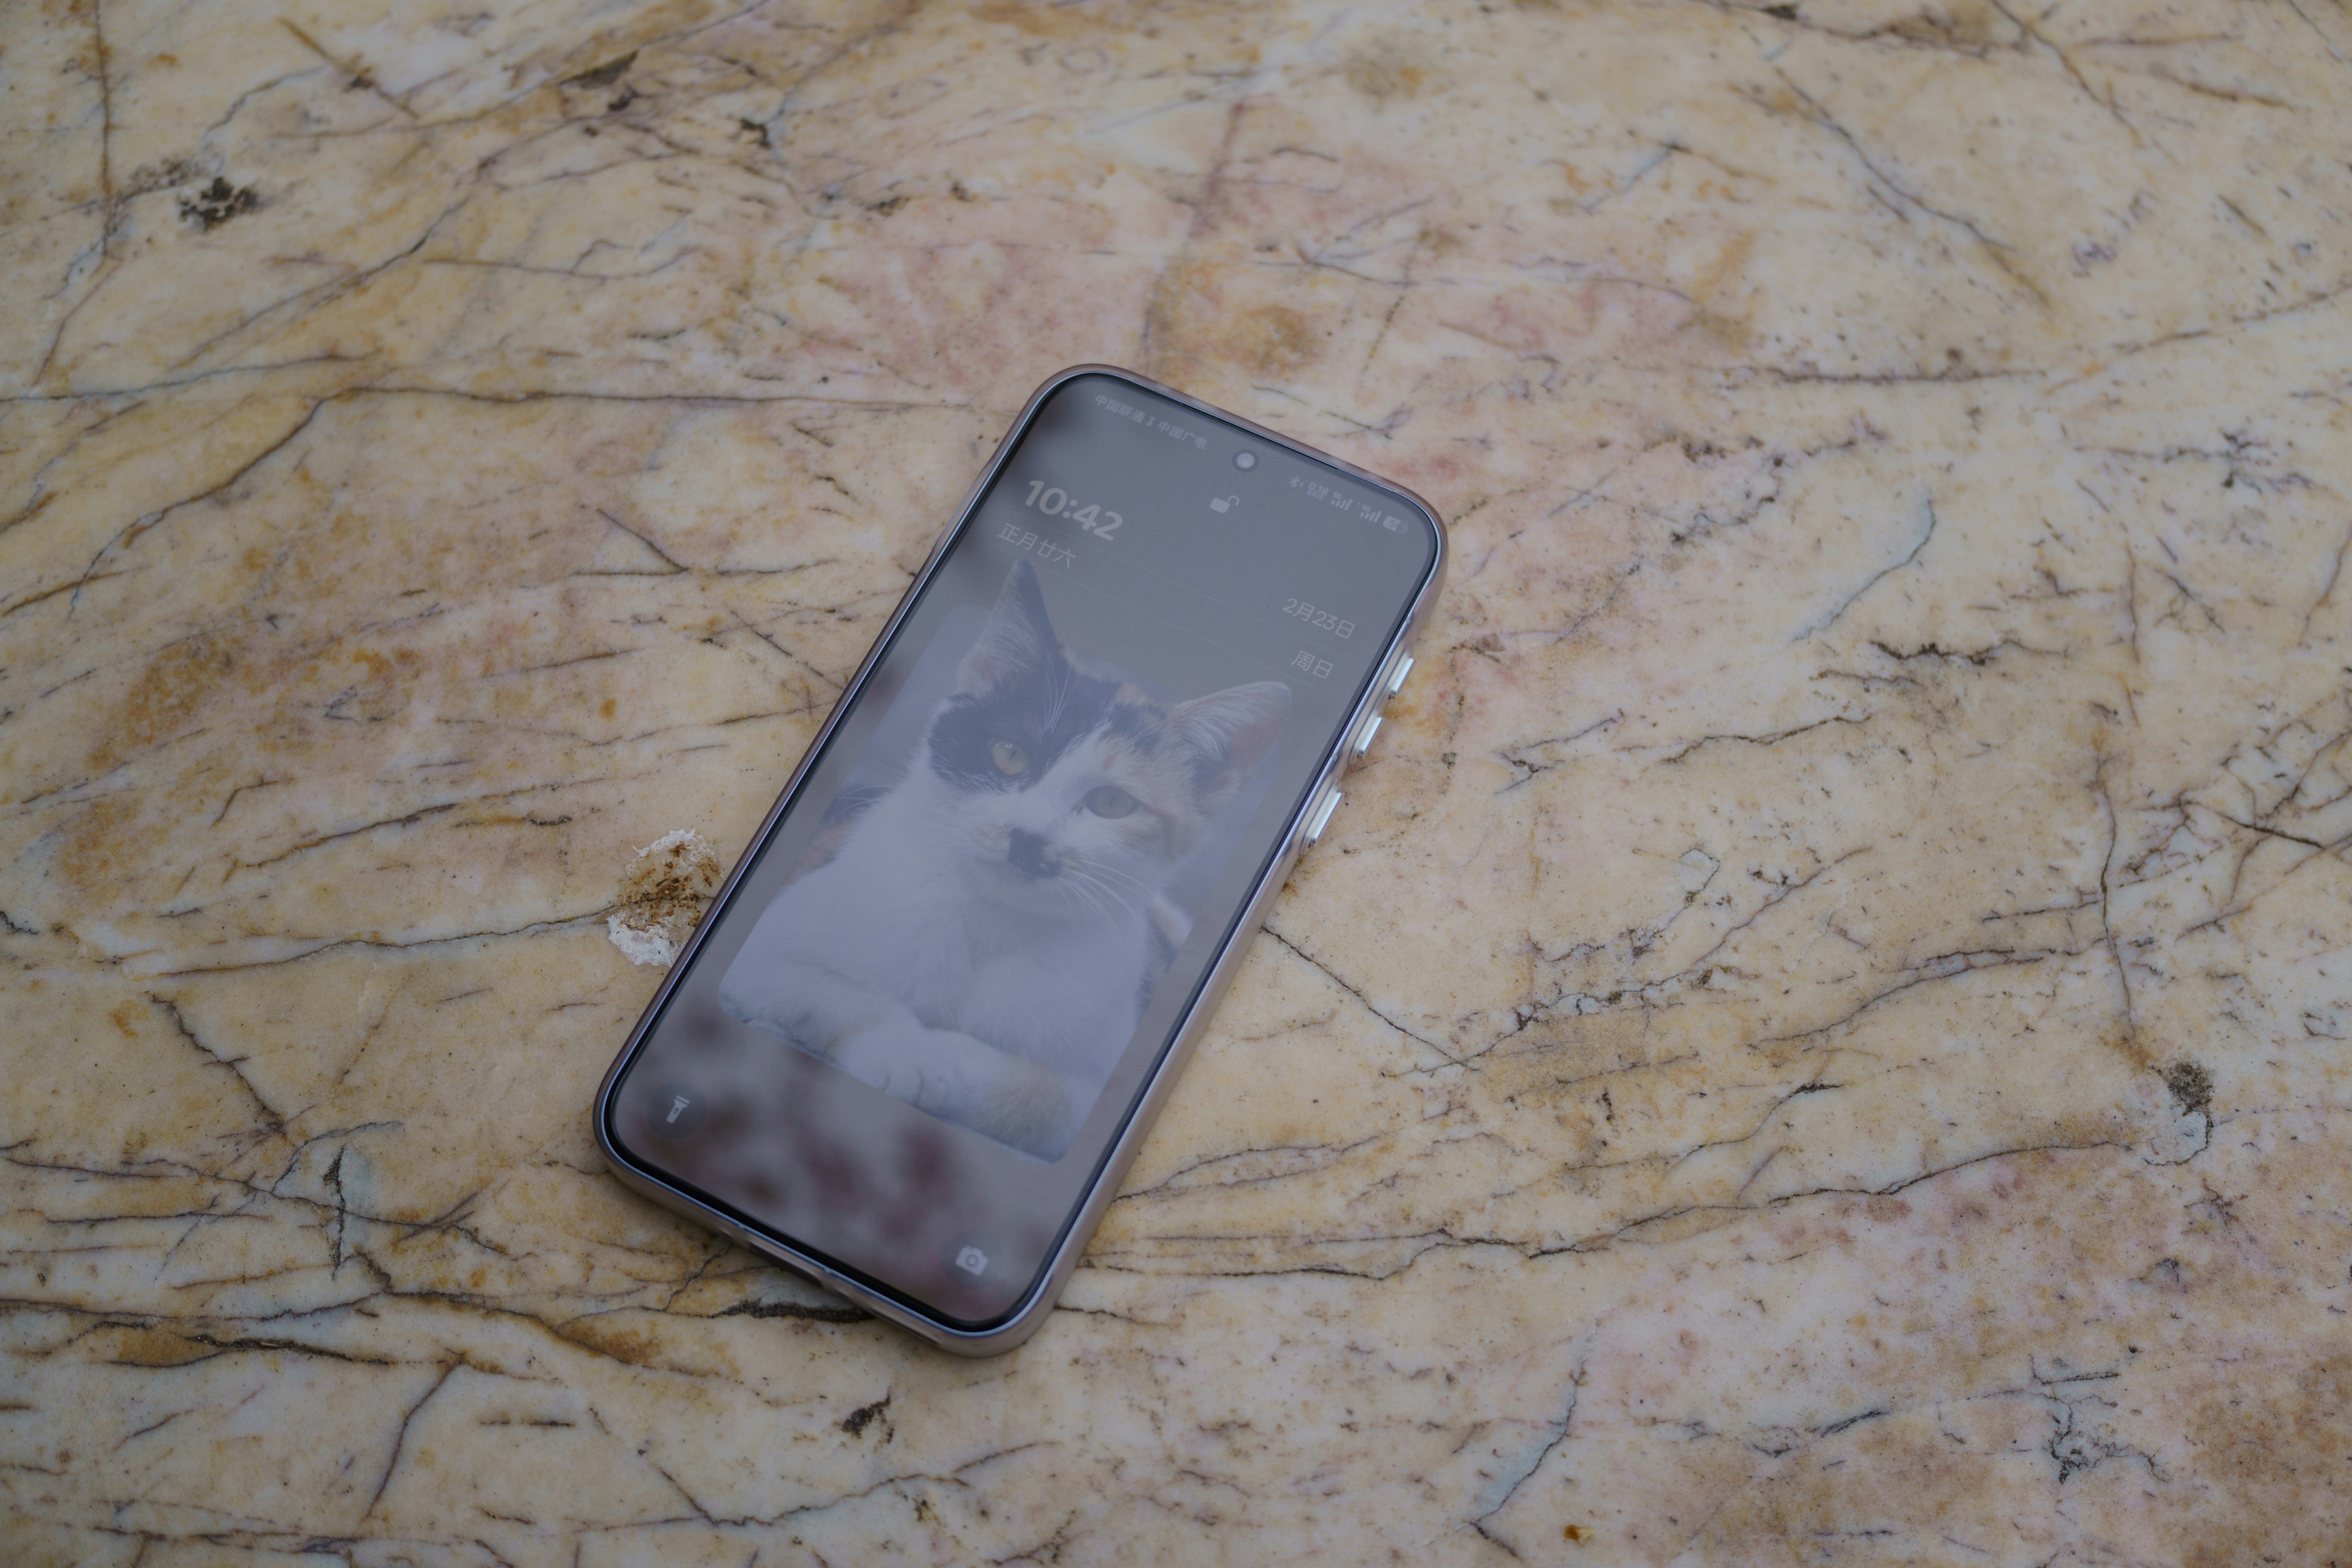p6: (579, 345, 1557, 1386)
